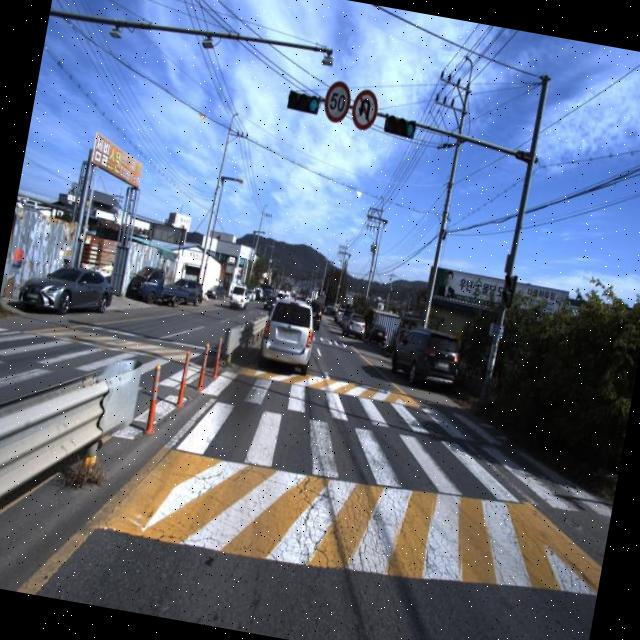crosswalk: (0, 331, 609, 515)
